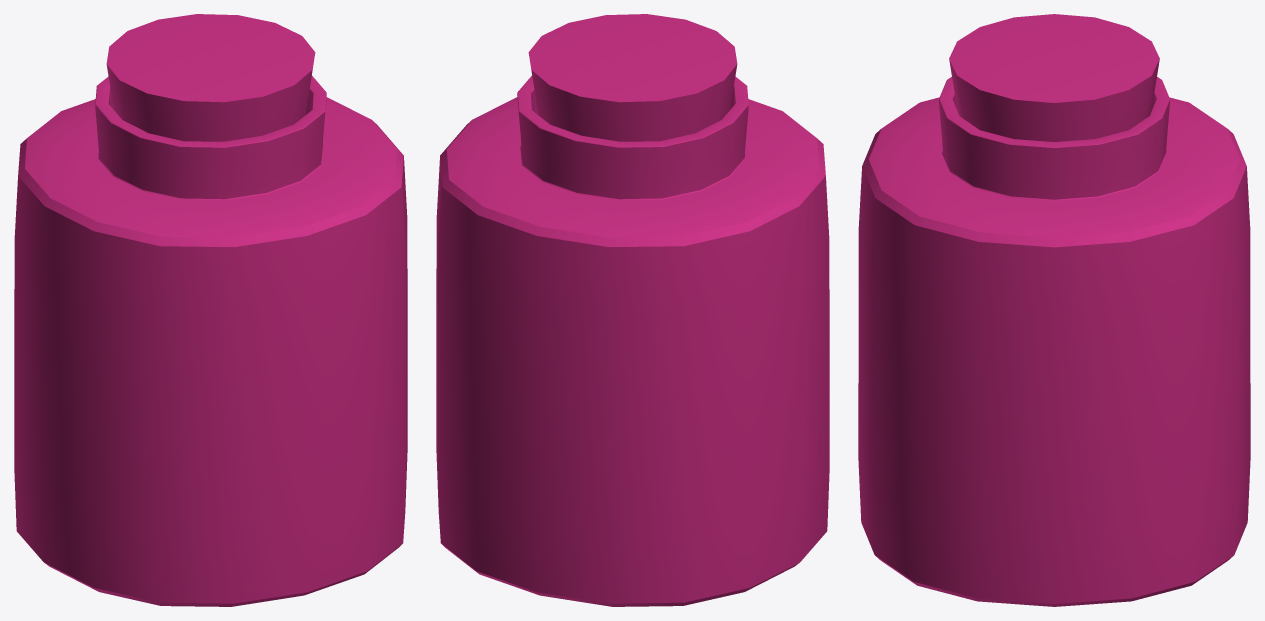
Rendered from wings.fbx.
3 renders of one model, left to right at view 1: azimuth 30°, elevation 25°; view 2: azimuth 150°, elevation 25°; view 3: azimuth 270°, elevation 25°, orthographic.
Visible parts, largest first — view 1: банка лоу, Пробкалоу; view 2: банка лоу, Пробкалоу; view 3: банка лоу, Пробкалоу.
Boxes of the visible parts, x1=… form: банка лоу: x1=14, y1=75, x2=407, y2=606; Пробкалоу: x1=106, y1=14, x2=315, y2=141; банка лоу: x1=436, y1=75, x2=829, y2=606; Пробкалоу: x1=528, y1=14, x2=737, y2=141; банка лоу: x1=858, y1=77, x2=1250, y2=606; Пробкалоу: x1=949, y1=14, x2=1159, y2=141.
Bounding box in the file's own units: 409 × 549 × 409.
